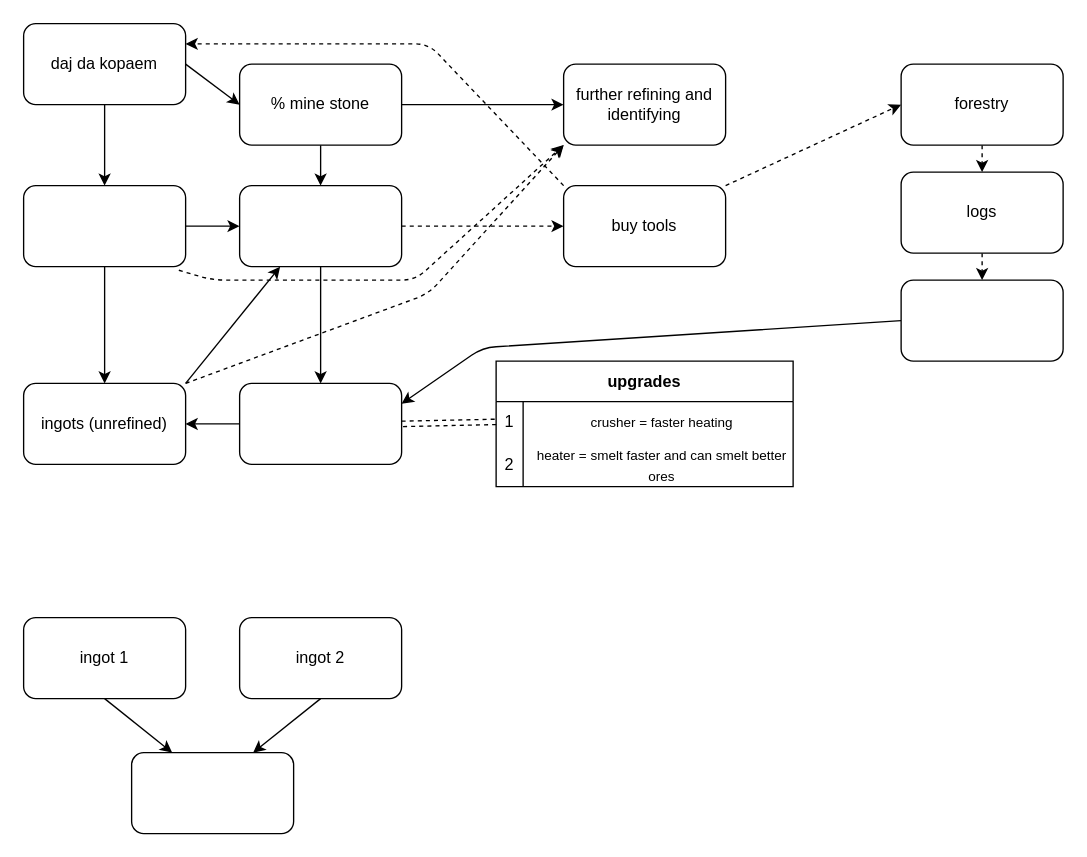
The diagram is 1087 pixels wide and 857 high, and some of its shapes have lost their labels. Here are the shapes that lost their labels. From the top down, the centre of each, then its label:
At [104,225]: "% ore (unrefined)".
At [320,225]: "sell for money".
At [981,320]: "planks".
At [320,423]: "buy/upgrade furnace".
At [212,792]: "alloy".
